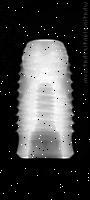Cowellmedi: (13, 37, 76, 170)
